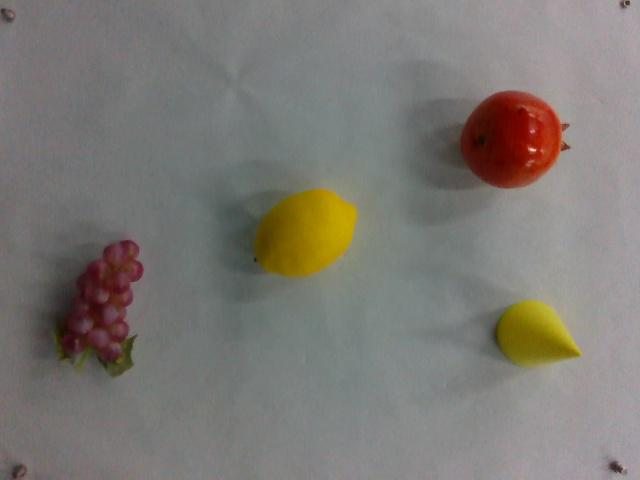cone: (494, 299, 581, 370)
grape: (54, 241, 144, 375)
lemon: (247, 189, 361, 283)
pomegranate: (459, 89, 574, 193)
